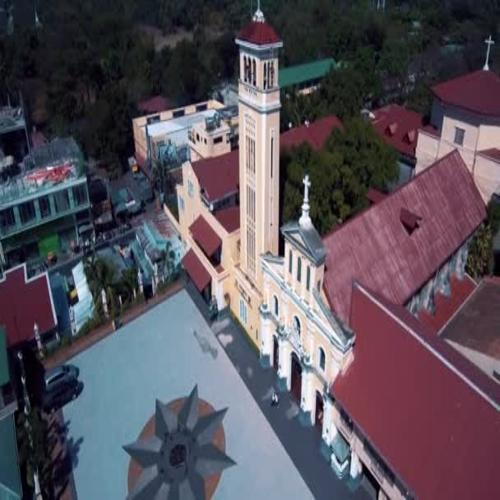Manaoag Church: (221, 6, 344, 448)
